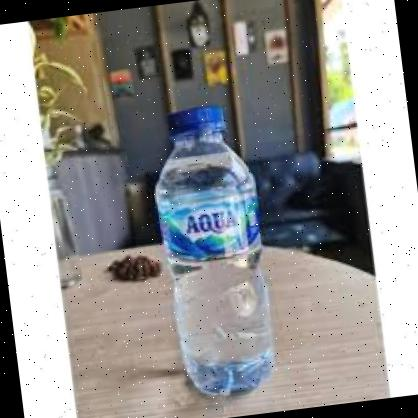bottle: (127, 88, 310, 407)
cap: (160, 102, 229, 144)
label: (155, 196, 283, 268)
